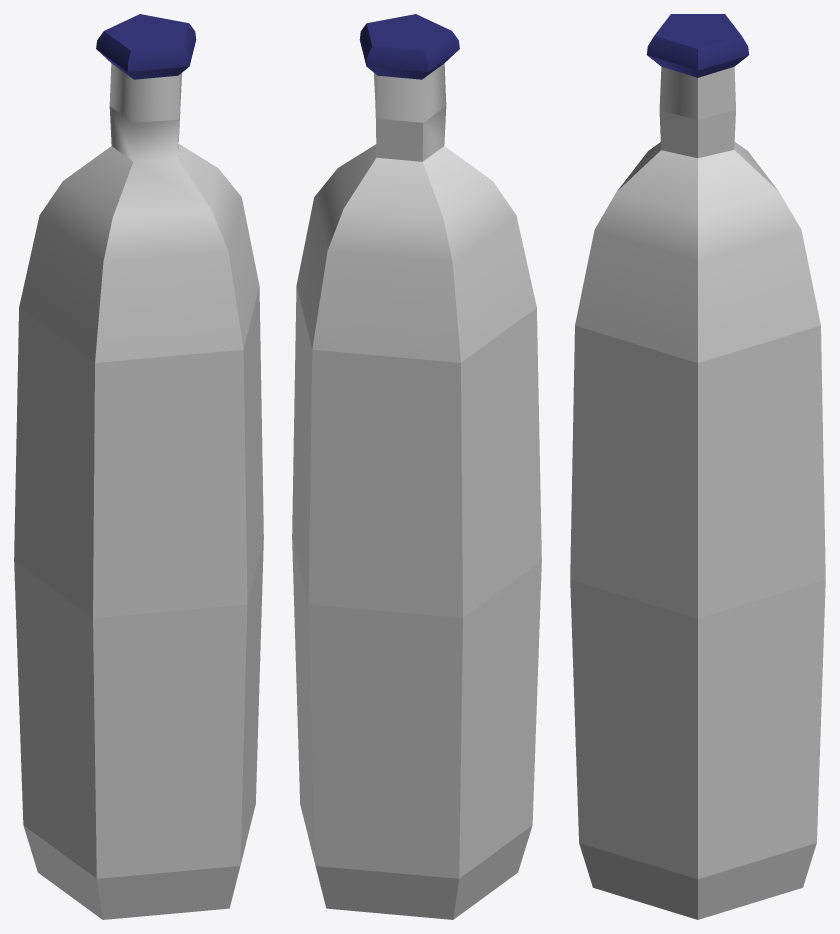
Rendered from Bottle.fbx.
The picture shows the model from 3 angles, left to right: view 1: azimuth 30°, elevation 25°; view 2: azimuth 150°, elevation 25°; view 3: azimuth 270°, elevation 25°; orthographic projection.
Visible parts, largest first — view 1: Bottle; view 2: Bottle; view 3: Bottle.
Part boxes in pixels (x1,y1,x2,y2): Bottle: (14,14,263,919); Bottle: (292,14,541,919); Bottle: (570,14,825,919).
Size of the model in its own units: 8.98 by 34.43 by 9.44.
